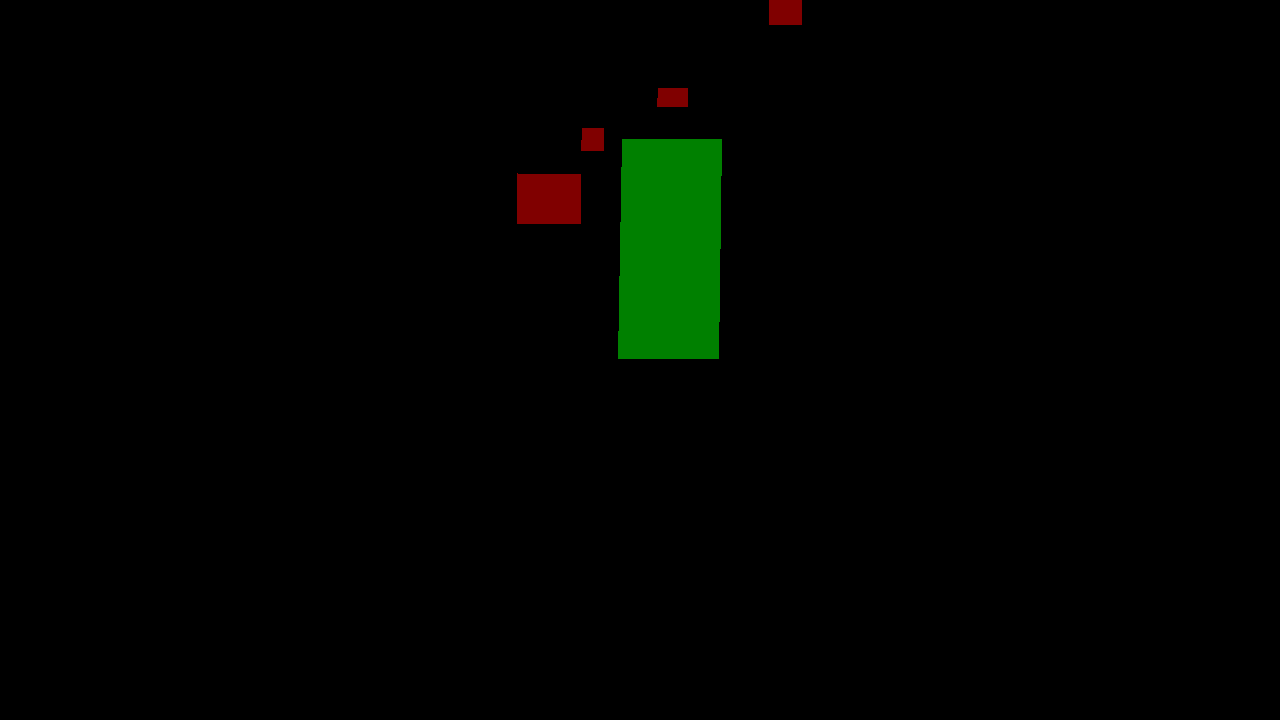door: (618, 139, 721, 358)
sign: (517, 173, 580, 223), (769, 0, 801, 24), (657, 88, 687, 106), (581, 128, 603, 150), (661, 191, 683, 213)
